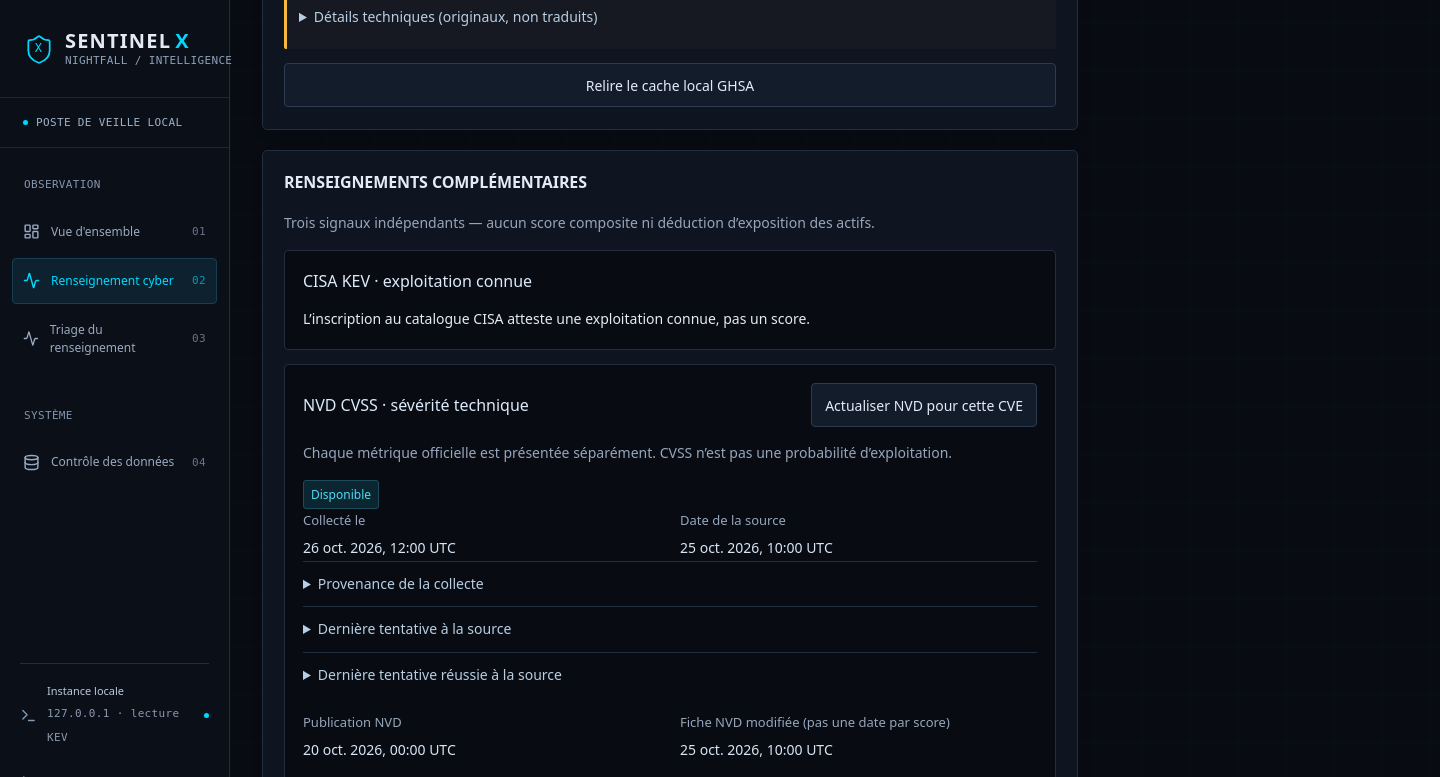
Test case: keeps score values when NVD fails and re-reading local data also fails
(page scrolled)
Click the button with test id "nvd-action" at coordinates (924, 405), box [811,383,1037,427]
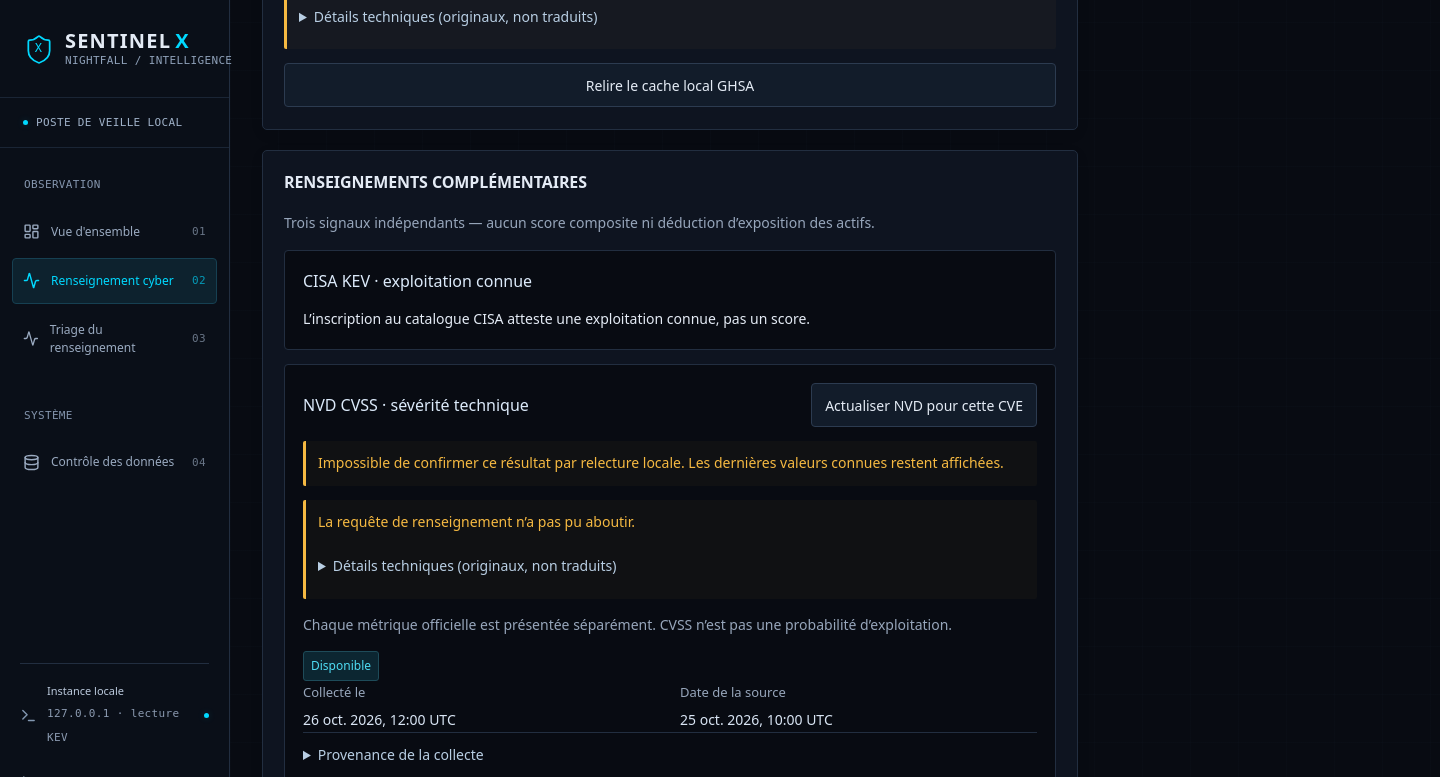
expect the text "Impossible de confirmer ce résultat par relecture locale" is shown: met, box [318,453,1004,472]
